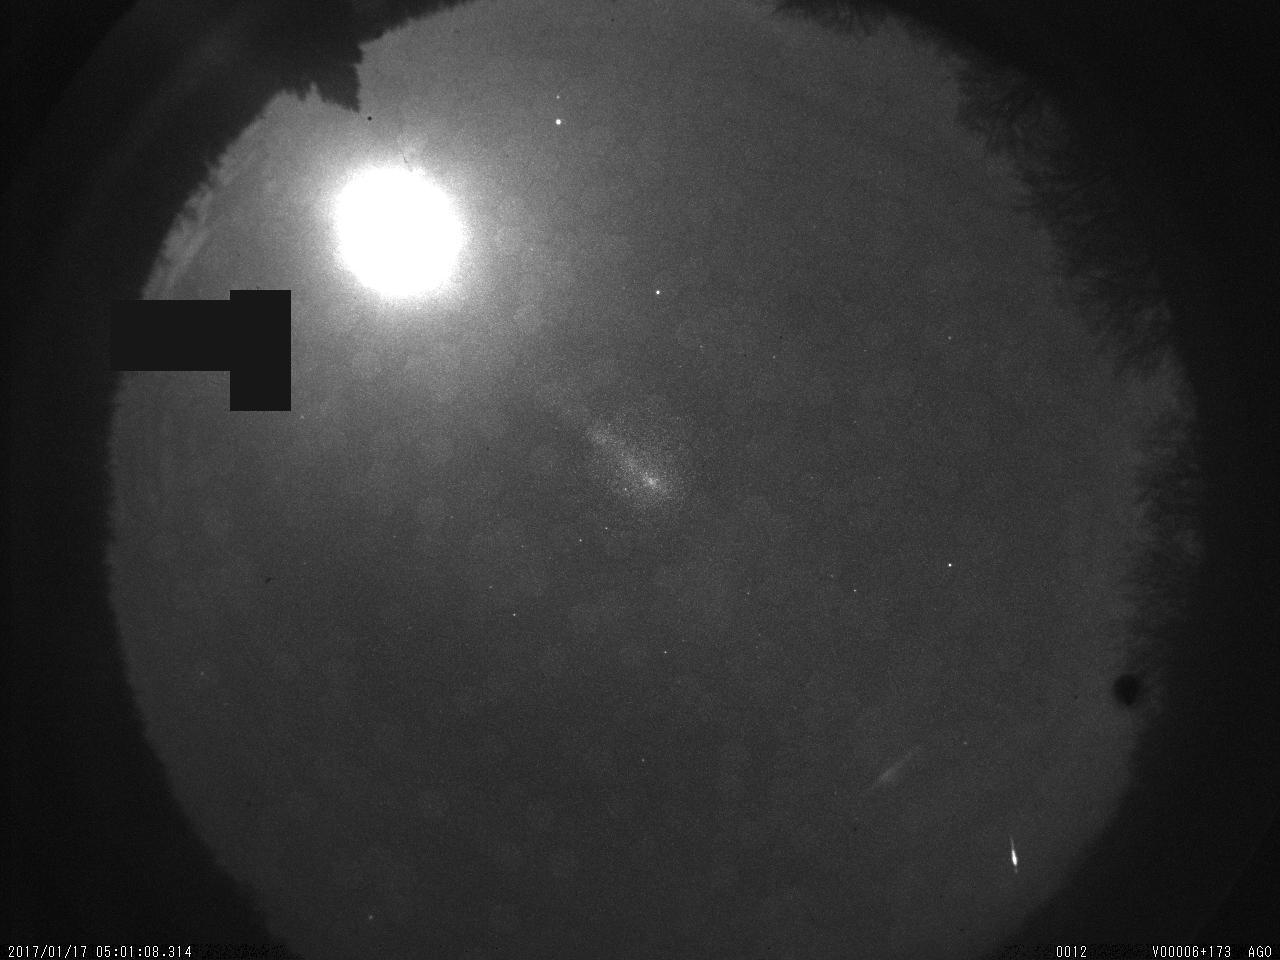meteor: (981, 817, 1044, 889)
